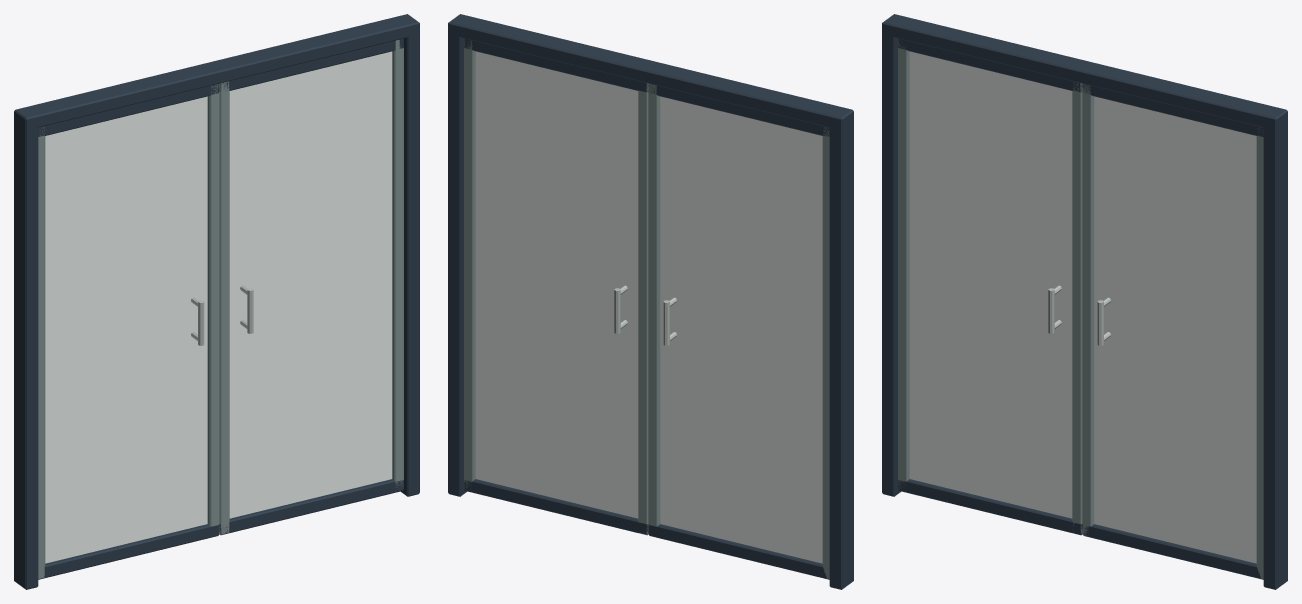
File: entrance_double_door.glb
3 views of the same model, side by side, from view 1: azimuth 30°, elevation 25°; view 2: azimuth 150°, elevation 25°; view 3: azimuth 330°, elevation 25° (orthographic).
Parts seen in each view (by area): view 1: entrance_double_door__glass.001, entrance_double_door__glass, entrance_double_door__metal, entrance_double_door__metal_light.001, entrance_double_door__metal_light, entrance_double_door__metal.001, entrance_double_door__metal.002; view 2: entrance_double_door__glass.001, entrance_double_door__glass, entrance_double_door__metal, entrance_double_door__metal_light.001, entrance_double_door__metal_light, entrance_double_door__metal.002, entrance_double_door__metal.001; view 3: entrance_double_door__glass, entrance_double_door__glass.001, entrance_double_door__metal, entrance_double_door__metal_light, entrance_double_door__metal_light.001, entrance_double_door__metal.001, entrance_double_door__metal.002.
Boxes of the visible parts, <box> form: entrance_double_door__glass.001: <box>229,51,392,518</box>; entrance_double_door__glass: <box>45,96,207,563</box>; entrance_double_door__metal: <box>14,14,419,589</box>; entrance_double_door__metal_light.001: <box>219,40,403,535</box>; entrance_double_door__metal_light: <box>38,84,219,579</box>; entrance_double_door__metal.001: <box>38,83,219,579</box>; entrance_double_door__metal.002: <box>219,38,403,535</box>; entrance_double_door__glass.001: <box>475,51,638,518</box>; entrance_double_door__glass: <box>660,96,822,563</box>; entrance_double_door__metal: <box>448,14,853,589</box>; entrance_double_door__metal_light.001: <box>464,39,648,535</box>; entrance_double_door__metal_light: <box>648,83,829,579</box>; entrance_double_door__metal.002: <box>464,38,648,534</box>; entrance_double_door__metal.001: <box>648,84,829,579</box>; entrance_double_door__glass: <box>909,51,1072,518</box>; entrance_double_door__glass.001: <box>1094,96,1256,563</box>; entrance_double_door__metal: <box>882,14,1287,589</box>; entrance_double_door__metal_light: <box>898,39,1082,533</box>; entrance_double_door__metal_light.001: <box>1082,84,1263,579</box>; entrance_double_door__metal.001: <box>898,38,1082,535</box>; entrance_double_door__metal.002: <box>1082,84,1263,579</box>.
Size of the model in its own units: 1.92 by 2.2 by 0.178.
